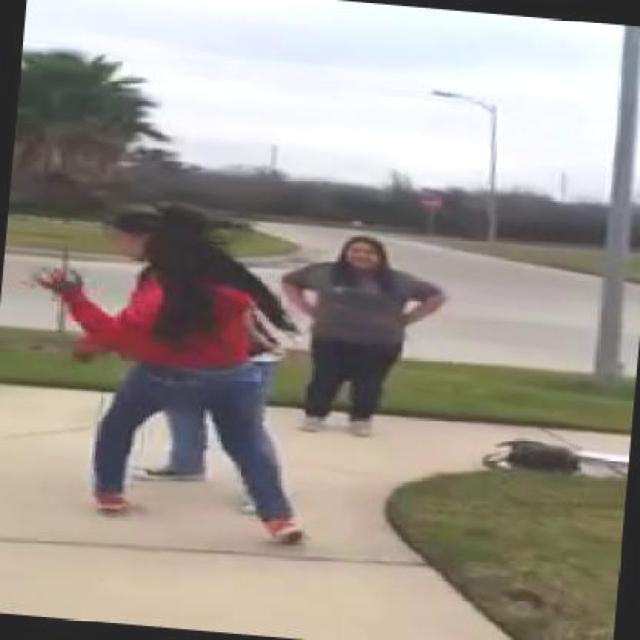fight: (6, 196, 332, 550)
non-fight: (268, 224, 456, 442)
